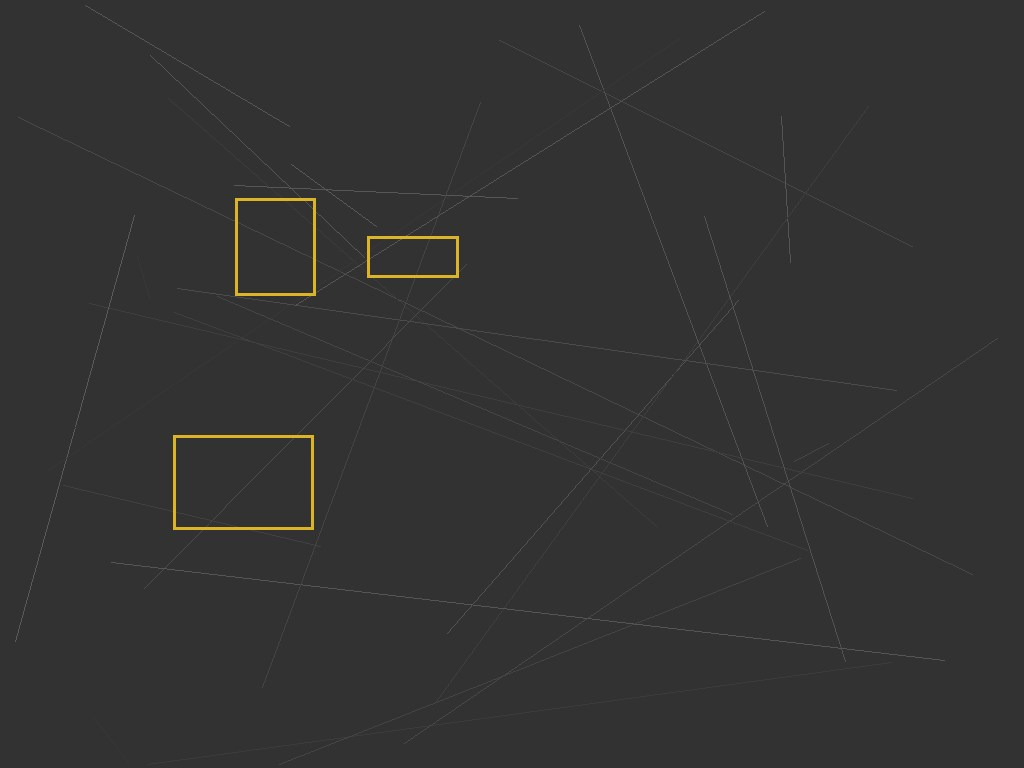D00: (173, 435, 313, 529), (235, 198, 315, 295)
D20: (367, 236, 458, 277)
